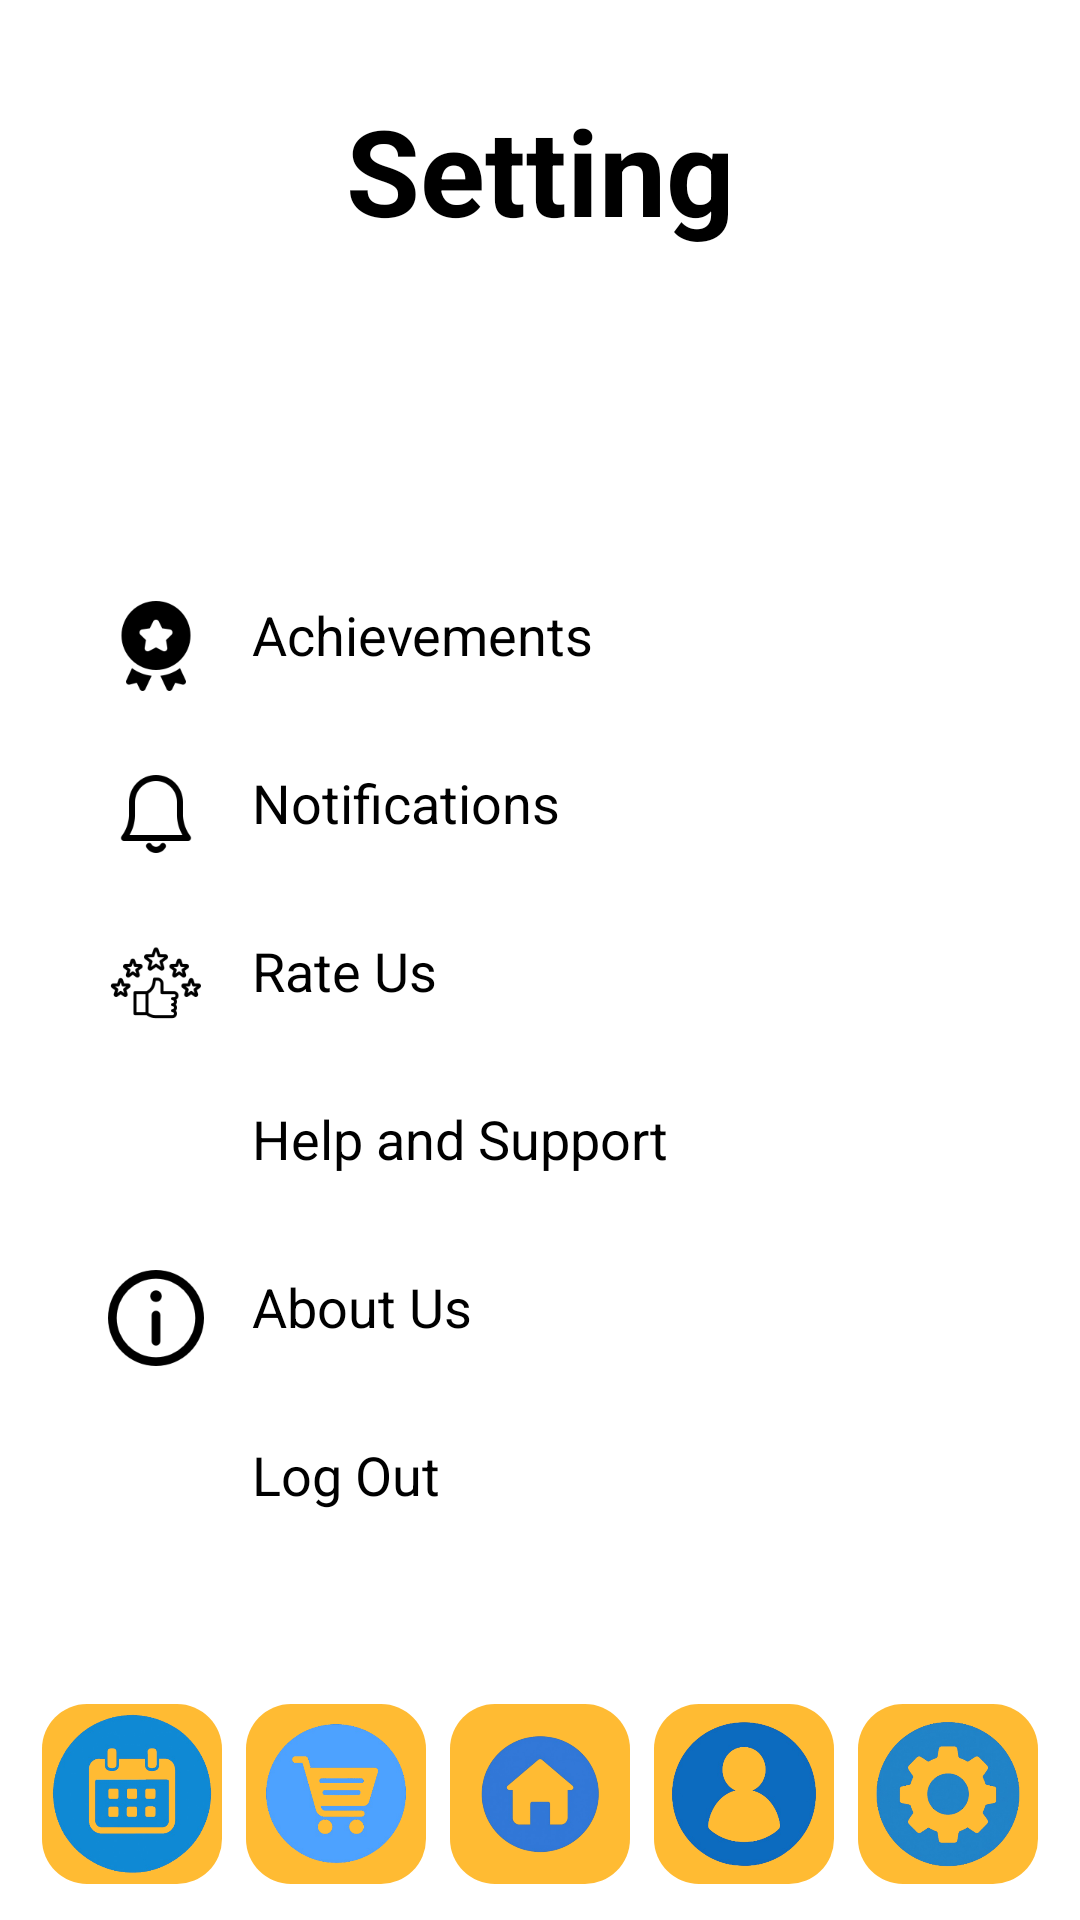

Where icons sit on this 1080×1920 app screen, as (x1, y1, x2, y2):
Cart: (246, 1704, 426, 1884)
Home: (450, 1704, 630, 1884)
Profile: (654, 1704, 834, 1884)
Reservation: (42, 1704, 222, 1884)
Setting: (858, 1704, 1038, 1884)
